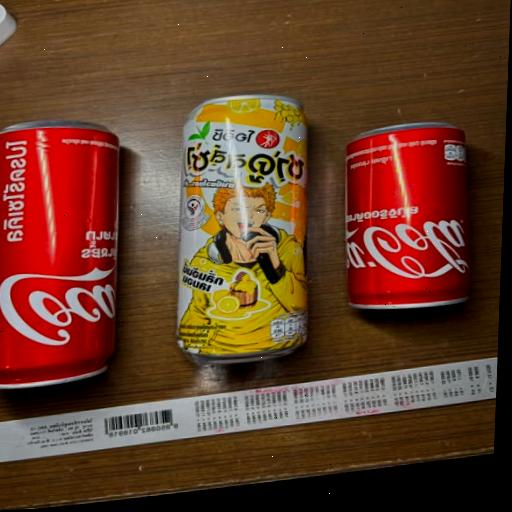bottle: (150, 76, 333, 393), (0, 77, 139, 419), (326, 98, 496, 333)
